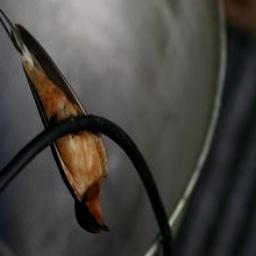Swallow: (0, 5, 115, 241)
